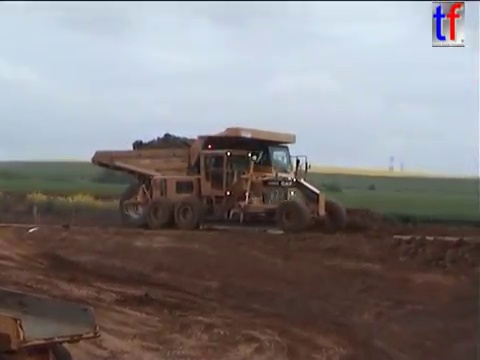motor grader: (134, 145, 350, 237)
truck: (89, 124, 312, 229), (1, 282, 104, 360)
